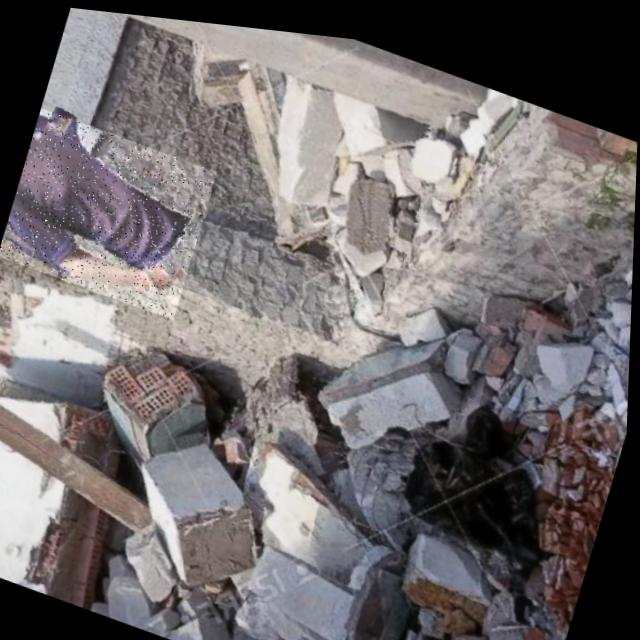Person in Rubble: (0, 102, 220, 318)
